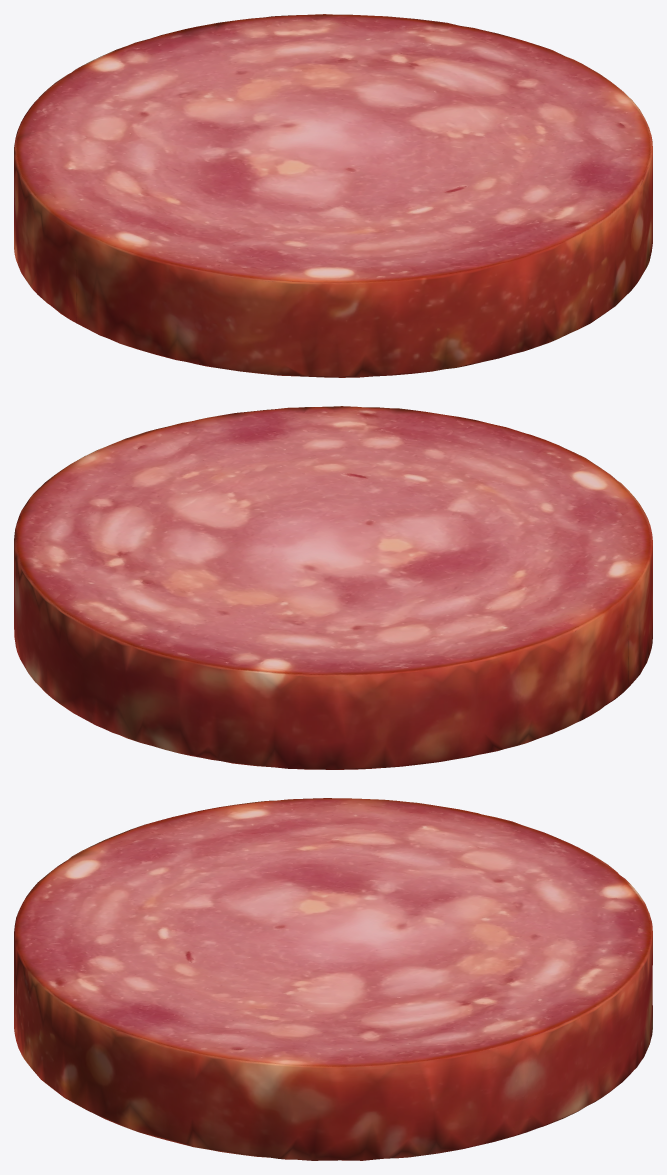
Rendered from salami.glb.
The picture shows the model from 3 angles, top to bottom: view 1: azimuth 30°, elevation 25°; view 2: azimuth 150°, elevation 25°; view 3: azimuth 270°, elevation 25°; orthographic projection.
Parts seen in each view (by area): view 1: Mesh10; view 2: Mesh10; view 3: Mesh10.
Boxes of the visible parts, <box> form: Mesh10: <box>14,14,652,377</box>; Mesh10: <box>14,406,652,769</box>; Mesh10: <box>14,798,652,1160</box>.
Size of the model in its own units: 1.91 by 0.3185 by 1.91.
Materials: 1 (1 with a texture image).
